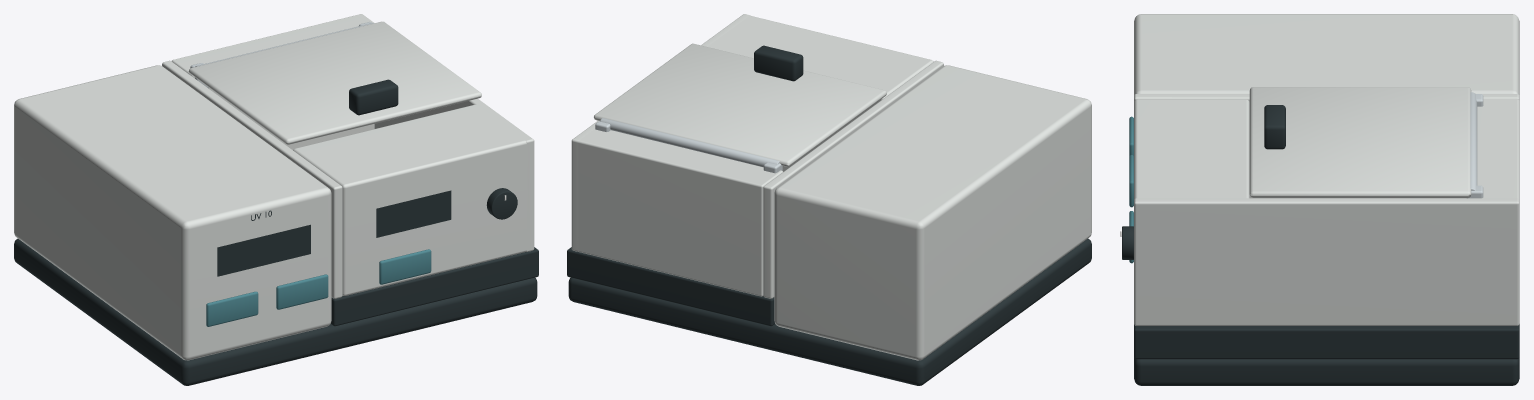
Rendered from preview.glb.
The picture shows the model from 3 angles, left to right: view 1: azimuth 30°, elevation 25°; view 2: azimuth 150°, elevation 25°; view 3: azimuth 270°, elevation 25°; orthographic projection. The views are drawn at different scales.
Visible parts, largest first — view 1: Front controls enclosure, Bench base, Opaque sample cover, Live LCD surface, Live LCD surface.001, Cover grip, Optical control key.001, Optical control key, Optical control key.002, Encoder; view 2: Front controls enclosure, Bench base, Opaque sample cover, Sample hinge, Cover grip; view 3: Front controls enclosure, Opaque sample cover, Bench base, Cover grip, Sample hinge, Encoder.
Boxes of the visible parts, x1,y1,x2,y2 form: Front controls enclosure: (14, 14, 534, 360); Bench base: (14, 238, 538, 385); Opaque sample cover: (188, 21, 481, 144); Live LCD surface: (217, 224, 310, 276); Live LCD surface.001: (376, 190, 451, 237); Cover grip: (349, 79, 398, 115); Optical control key.001: (276, 274, 328, 309); Optical control key: (206, 291, 258, 326); Optical control key.002: (379, 249, 431, 284); Encoder: (486, 188, 517, 219); Front controls enclosure: (571, 14, 1091, 360); Bench base: (567, 238, 1091, 385); Opaque sample cover: (593, 43, 886, 166); Sample hinge: (600, 118, 779, 167); Cover grip: (754, 45, 803, 81); Front controls enclosure: (1134, 14, 1519, 325); Opaque sample cover: (1249, 87, 1471, 197); Bench base: (1134, 324, 1519, 385); Cover grip: (1264, 105, 1285, 149); Sample hinge: (1470, 92, 1477, 190); Encoder: (1122, 226, 1133, 259).
Bounding box in the file's own units: 0.38 × 0.211 × 0.3313.
